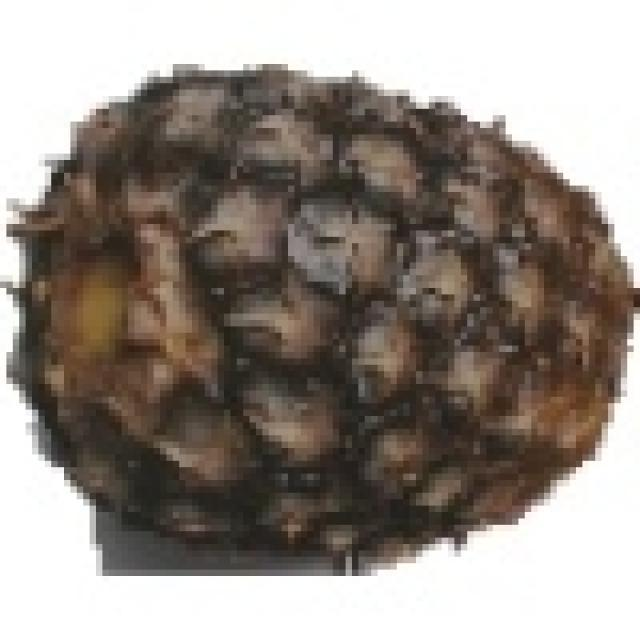pineapple: (26, 58, 640, 557)
